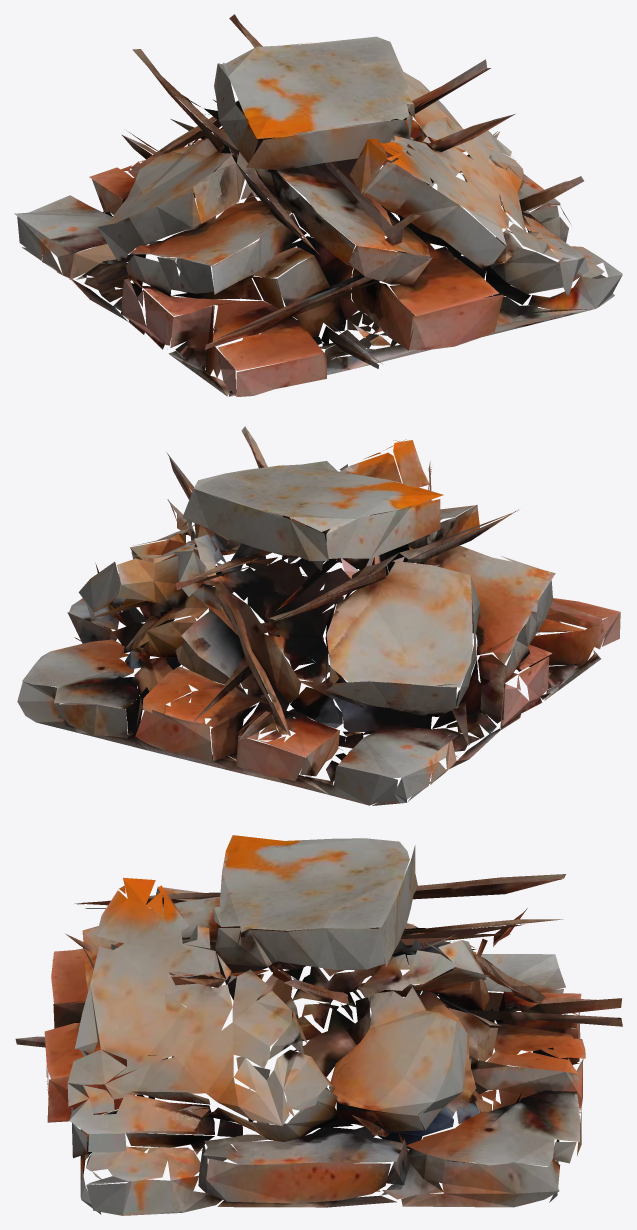
Rendered from rubble-pile.glb.
3 views of the same model, one above another, from view 1: azimuth 30°, elevation 25°; view 2: azimuth 150°, elevation 25°; view 3: azimuth 270°, elevation 25° (orthographic). The views are drawn at different scales.
Visible parts, largest first — view 1: prop; view 2: prop; view 3: prop.
Boxes of the visible parts, box(x1,y1,x2,y2) form: prop: box(14, 14, 622, 396); prop: box(17, 426, 620, 805); prop: box(15, 835, 622, 1215).
Bounding box in the file's own units: 0.8198 × 0.407 × 0.92.
1 material, 1 textured.
